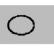no answer: (4, 12, 39, 38)
